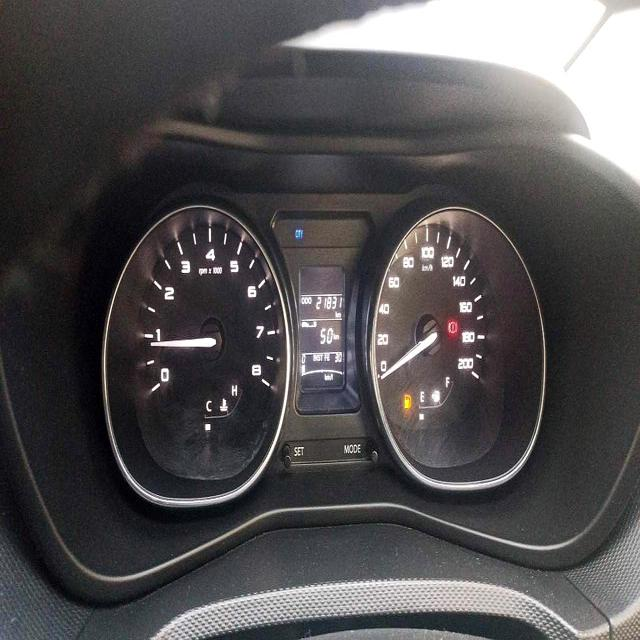odometer: (313, 292, 345, 314)
